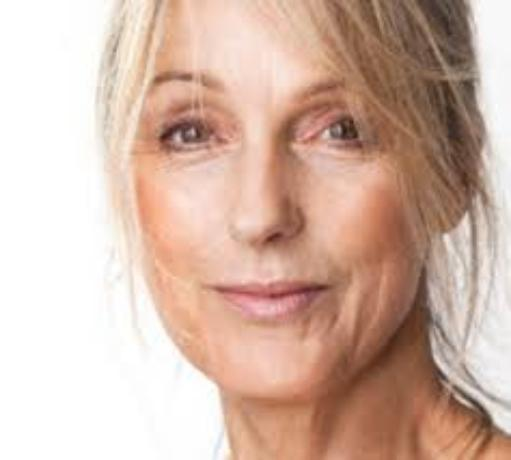left_eye: (302, 118, 369, 152)
left_lip_corner: (312, 278, 344, 301)
right_eye: (159, 118, 228, 154)
right_lip_corner: (200, 278, 241, 302)
